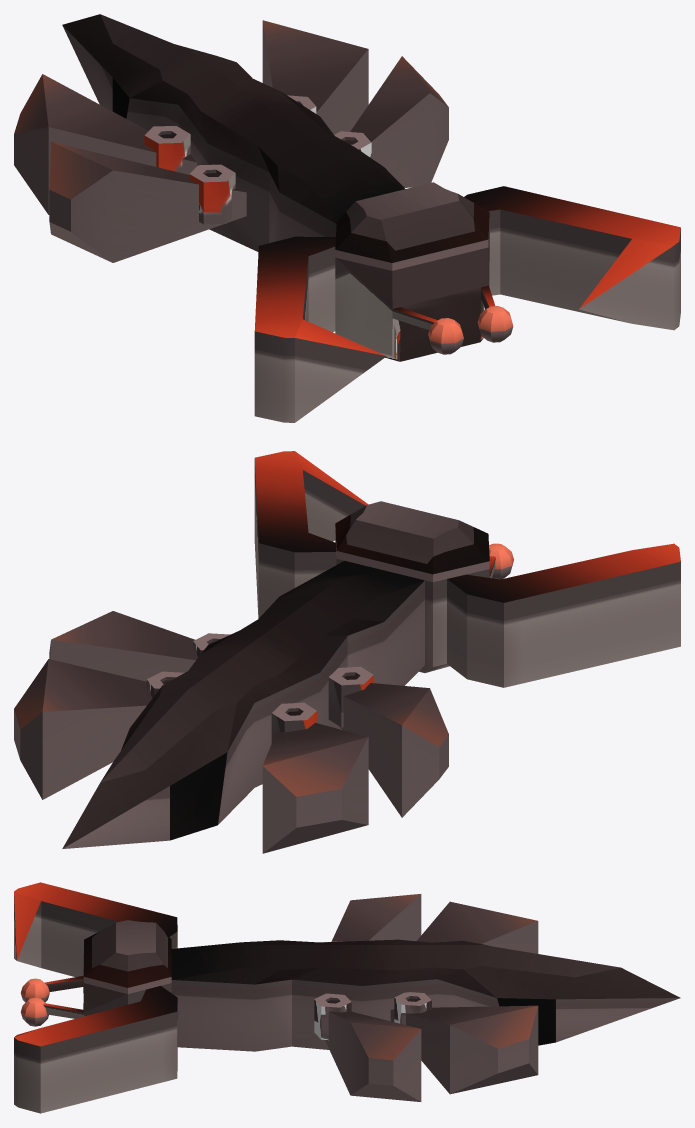
File: pewpew.fbx
3 views of the same model, one above another, from view 1: azimuth 30°, elevation 25°; view 2: azimuth 150°, elevation 25°; view 3: azimuth 270°, elevation 25° (orthographic). The views are drawn at different scales.
Visible parts, largest first — view 1: Cube, Cylinder.002, Sphere.004; view 2: Cube, Cylinder.002, Sphere.004; view 3: Cube, Cylinder.002, Sphere.004.
Boxes of the visible parts, x1,y1,x2,y2 form: Cube: (14,14,680,422); Cylinder.002: (144,95,371,224); Sphere.004: (428,306,513,354); Cube: (14,451,680,853); Cylinder.002: (146,633,373,742); Sphere.004: (489,543,513,579); Cube: (14,882,680,1113); Cylinder.002: (314,941,431,1040); Sphere.004: (20,978,49,1026).
Bounding box in the file's own units: 107 × 30.49 × 184.
